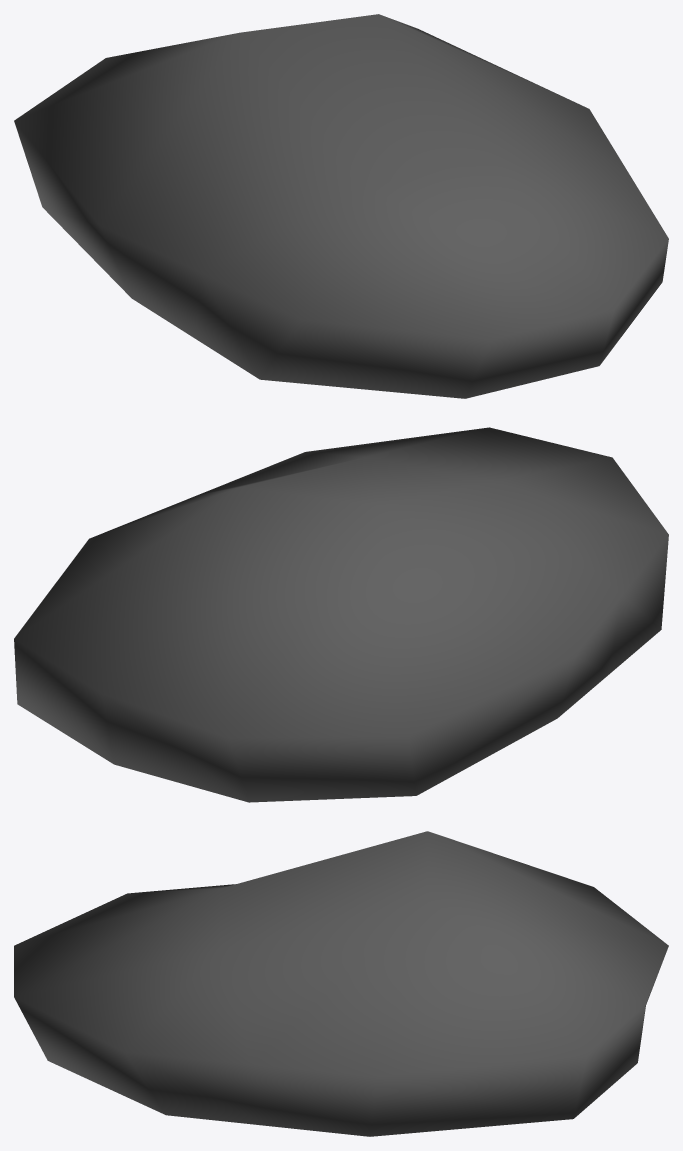
The model's file is SS_Rock_01.fbx.
The picture shows the model from 3 angles, top to bottom: view 1: azimuth 30°, elevation 25°; view 2: azimuth 150°, elevation 25°; view 3: azimuth 270°, elevation 25°; orthographic projection. The views are drawn at different scales.
Visible parts, largest first — view 1: Cube.011; view 2: Cube.011; view 3: Cube.011.
Part boxes in pixels (x1=…): Cube.011: x1=14, y1=14, x2=668, y2=398; Cube.011: x1=14, y1=427, x2=668, y2=802; Cube.011: x1=14, y1=831, x2=668, y2=1136.
Size of the model in its own units: 67.59 by 27.1 by 92.16.
Materials: 1 (1 with a texture image).
